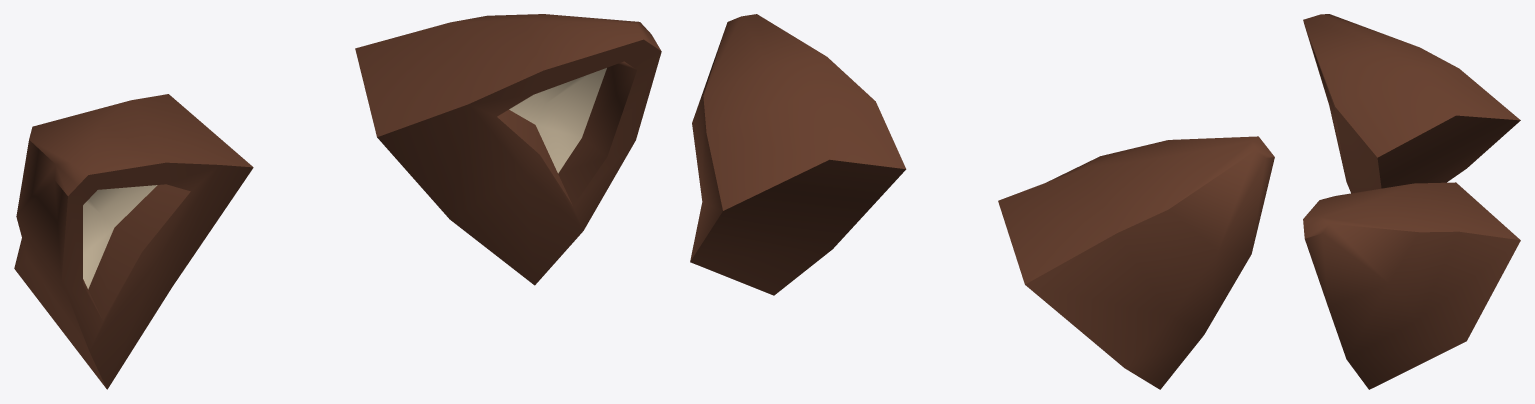
The model's file is catears3.fbx.
3 views of the same model, side by side, from view 1: azimuth 30°, elevation 25°; view 2: azimuth 150°, elevation 25°; view 3: azimuth 270°, elevation 25° (orthographic). The views are drawn at different scales.
Parts seen in each view (by area): view 1: catears3; view 2: catears3; view 3: catears3.
Part boxes in pixels (x1=…): catears3: x1=14, y1=14, x2=661, y2=389; catears3: x1=690, y1=14, x2=1274, y2=389; catears3: x1=1303, y1=14, x2=1520, y2=389.
Bounding box in the file's own units: 133 × 57.11 × 57.14.
Materials: 1 (1 with a texture image).
